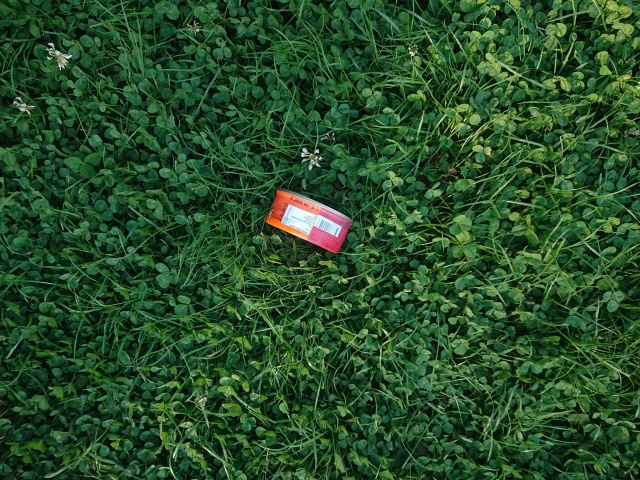Gavrilovic Pork Liver Pate 100g: (263, 186, 355, 256)
